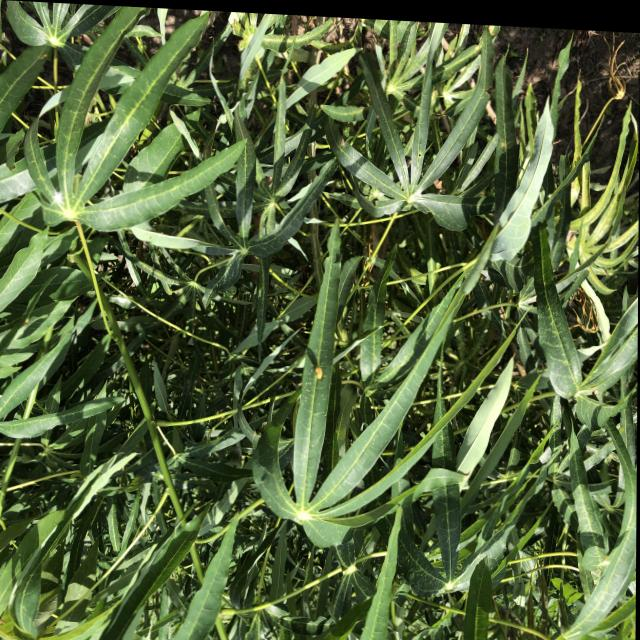Mosca: (312, 355, 334, 391)
